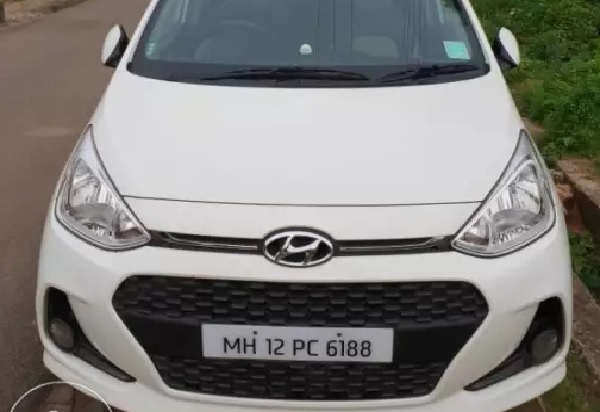licenseplate: (200, 322, 396, 366)
